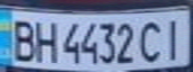2: (115, 18, 139, 65)
3: (96, 18, 121, 65)
4: (57, 18, 81, 64), (78, 18, 100, 65)
B: (6, 16, 39, 63)
C: (136, 17, 166, 63)
H: (30, 17, 60, 63)
I: (157, 15, 190, 62)
